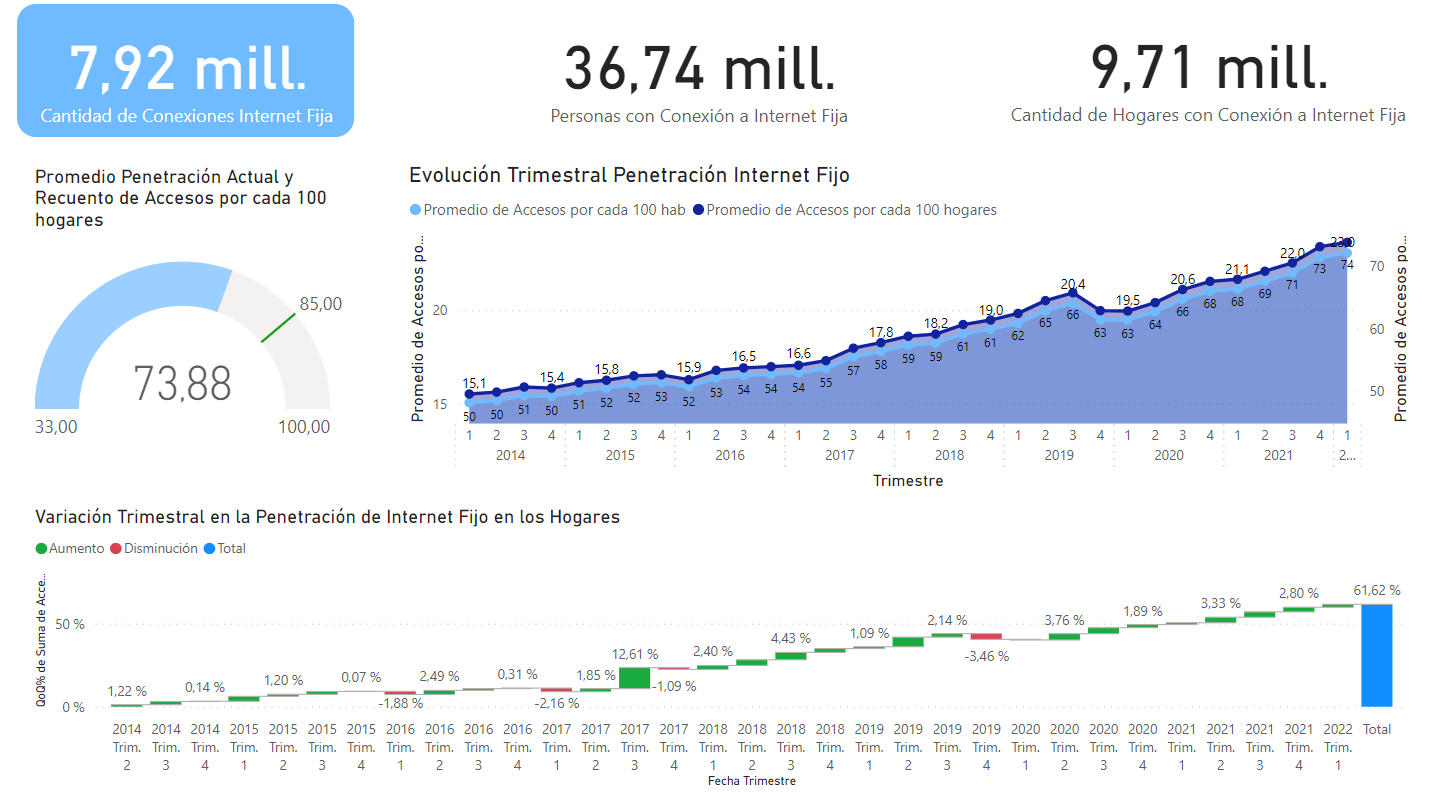

The dashboard page shown, as its layout file describes it:
{"tool":"powerbi","page":{"name":"Penetracion","canvas":[1280,720],"ordinal":0},"visuals":[{"type":"areaChart","title":"Evolución Trimestral Penetración Internet Fijo","fields":{"Category":["Penetracion-totales.Año.Variación.Jerarquía de fechas.Año","Penetracion-totales.Trimestre"],"Y":["Max(Penetracion-totales.Accesos por cada 100 hab)"],"Y2":["Max(Penetracion-totales.Accesos por cada 100 hogares)"]},"box":[357.7,148.5,895.9,294.8],"z":1000},{"type":"gauge","fields":{"Y":["Penetracion-totales.Promedio Penetración Actual"],"MinValue":["CountNonNull(Penetracion-totales.Accesos por cada 100 hogares)"]},"box":[25.8,150.5,288.7,276.3],"z":2000},{"type":"card","fields":{"Values":["Penetracion-totales.Cantidad Usuarios Argentina"]},"box":[15.5,8.2,299,117.5],"z":3000},{"type":"card","fields":{"Values":["Penetracion-totales.Personas con Conexión a Internet Fija"]},"box":[474.2,9.3,290.7,117.5],"z":4000},{"type":"card","fields":{"Values":["Penetracion-hogares.Cantidad de Hogares con Conexión a Internet Fija"]},"box":[888.7,8.2,366,117.5],"z":5000},{"type":"waterfallChart","title":"Variación Trimestral en la Penetración de Internet Fijo en los Hogares","fields":{"Y":["Penetracion-hogares.QoQ% de Suma de Accesos por cada 100 hogares"],"Category":["Penetracion-hogares.Fecha.Variación.Jerarquía de fechas.Año","Penetracion-hogares.Fecha.Variación.Jerarquía de fechas.Trimestre"]},"box":[25.8,452.6,1227.8,254.6],"z":7000}]}

Visuals, with their boxes in screenshot pixels (x1, y1, x2, y2), scaled from the page's 1280x720 canvas onto the 1431x794 screenshot:
"Evolución Trimestral Penetración Internet Fijo" areaChart: bbox=(400, 164, 1401, 489)
gauge - Penetracion-totales.Promedio Penetración Actual x CountNonNull(Penetracion-totales.Accesos por cada 100 hogares): bbox=(29, 166, 352, 471)
card - Penetracion-totales.Cantidad Usuarios Argentina: bbox=(17, 9, 352, 139)
card - Penetracion-totales.Personas con Conexión a Internet Fija: bbox=(530, 10, 855, 140)
card - Penetracion-hogares.Cantidad de Hogares con Conexión a Internet Fija: bbox=(994, 9, 1403, 139)
"Variación Trimestral en la Penetración de Internet Fijo en los Hogares" waterfallChart: bbox=(29, 499, 1401, 780)
